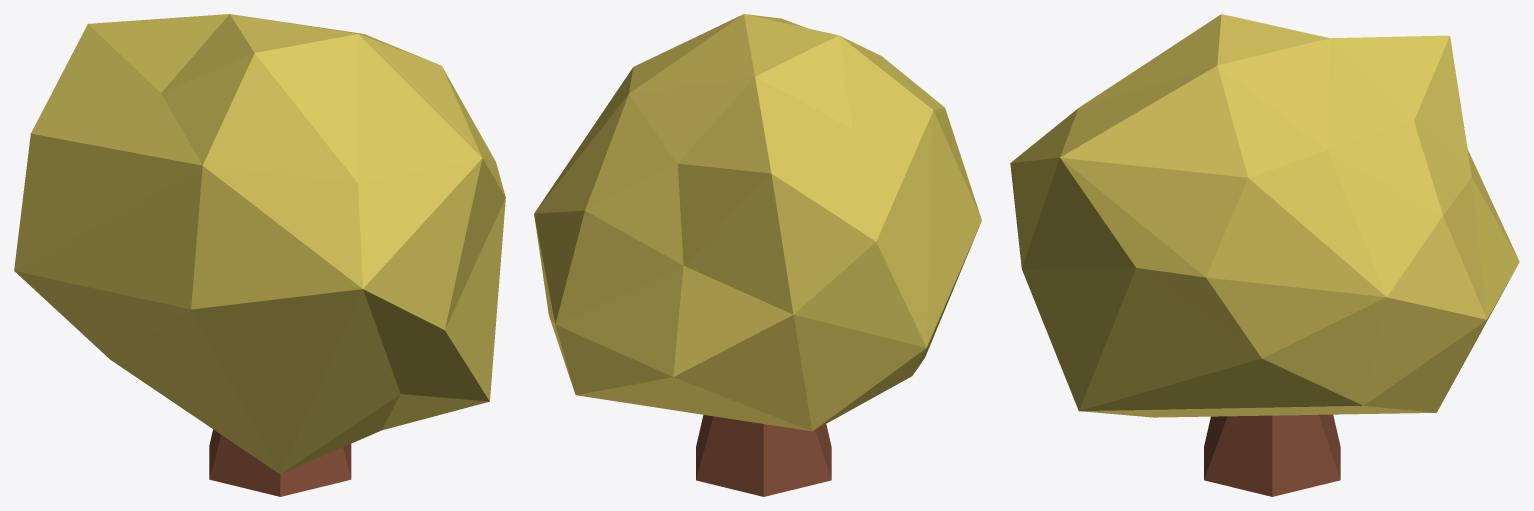
File: Bush_1_autumn_mat.fbx
The picture shows the model from 3 angles, left to right: view 1: azimuth 30°, elevation 25°; view 2: azimuth 150°, elevation 25°; view 3: azimuth 270°, elevation 25°; orthographic projection. The views are drawn at different scales.
Visible parts, largest first — view 1: Bush_1_autumn_mat; view 2: Bush_1_autumn_mat; view 3: Bush_1_autumn_mat.
Boxes of the visible parts, x1=… form: Bush_1_autumn_mat: x1=14, y1=14, x2=505, y2=496; Bush_1_autumn_mat: x1=534, y1=14, x2=981, y2=496; Bush_1_autumn_mat: x1=1010, y1=14, x2=1519, y2=496.
Bounding box in the file's own units: 40.88 × 42.19 × 45.82.
